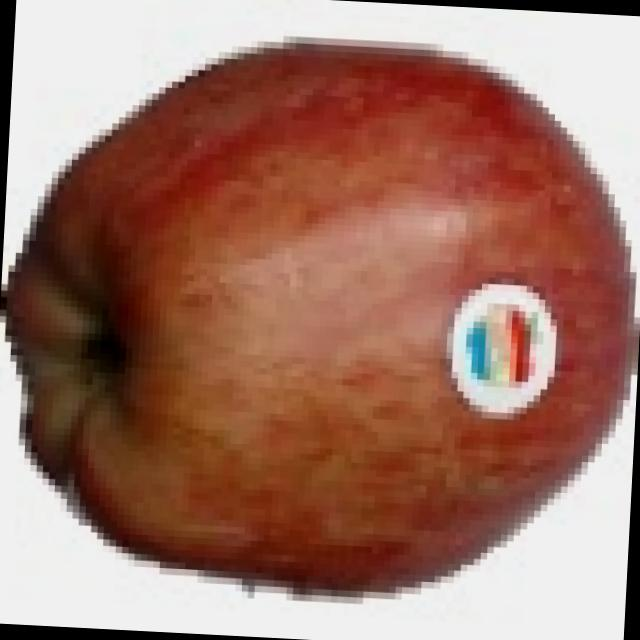apple: (0, 11, 640, 611)
